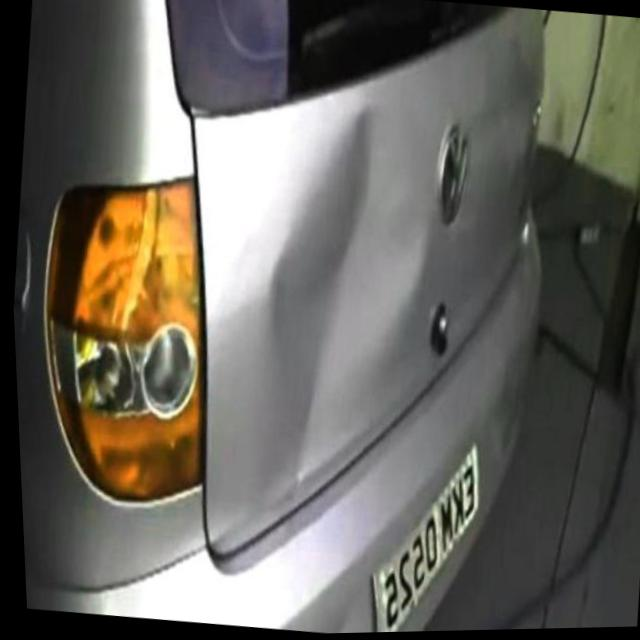Car-Damage: (234, 111, 448, 517)
